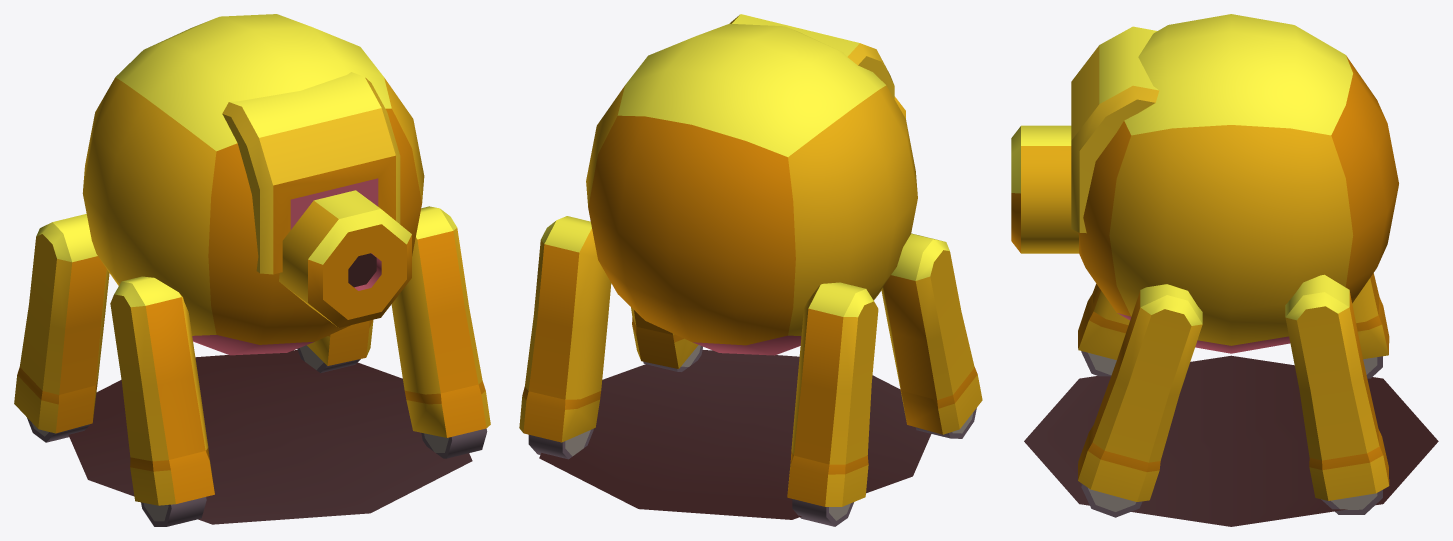
Rendered from NeoTankMesh.YellowComet.glb.
3 renders of one model, left to right at view 1: azimuth 30°, elevation 25°; view 2: azimuth 150°, elevation 25°; view 3: azimuth 270°, elevation 25°, orthographic. The views are drawn at different scales.
Parts seen in each view (by area): view 1: NeoTankMesh.YellowComet; view 2: NeoTankMesh.YellowComet; view 3: NeoTankMesh.YellowComet.
Part boxes in pixels (x1=…): NeoTankMesh.YellowComet: x1=14, y1=14, x2=490, y2=526; NeoTankMesh.YellowComet: x1=519, y1=14, x2=982, y2=526; NeoTankMesh.YellowComet: x1=1011, y1=14, x2=1438, y2=526.
Size of the model in its own units: 2.03 by 2.26 by 2.14.
1 material, 1 textured.
